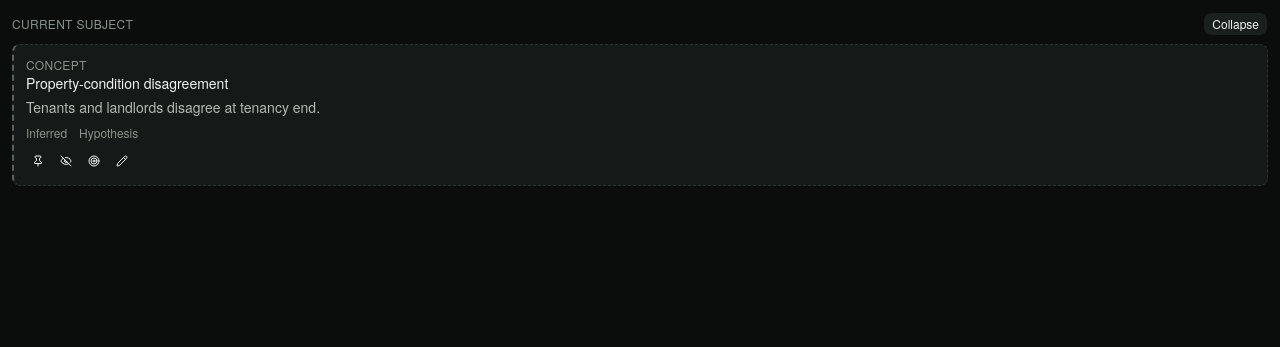
Test: editing the user's own meaning › warns before turning inferred text into the user's own wording
The image size is (1280, 347).
Click the button named "Edit Property-condition disagreement": [122, 161] box [110,149,134,173]
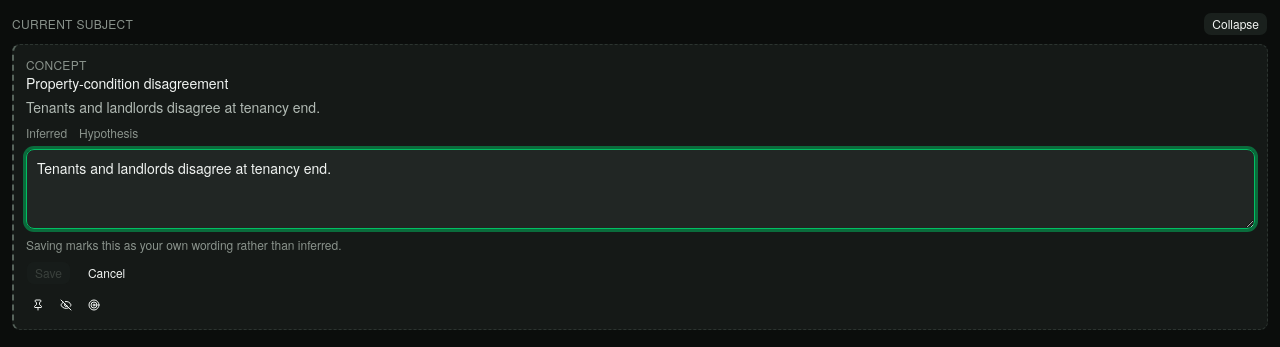
Check: the text "Saving marks this as your own wording rather than inferred." is shown, box [26,236,342,253]
